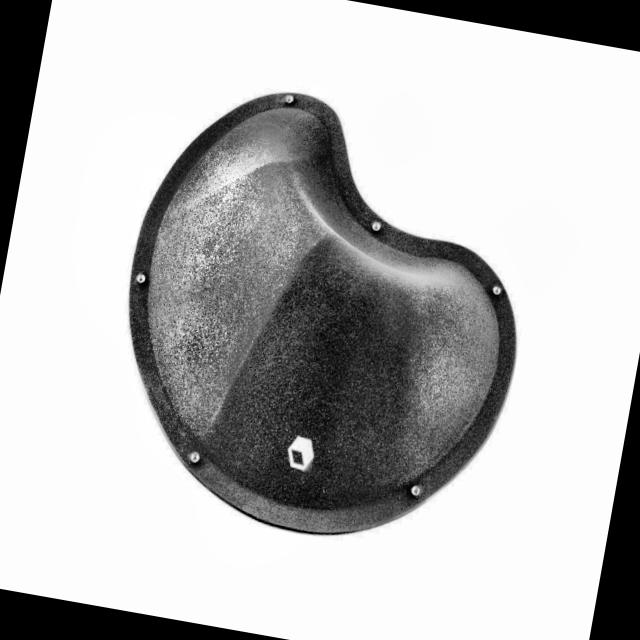Hold: (89, 71, 563, 576)
